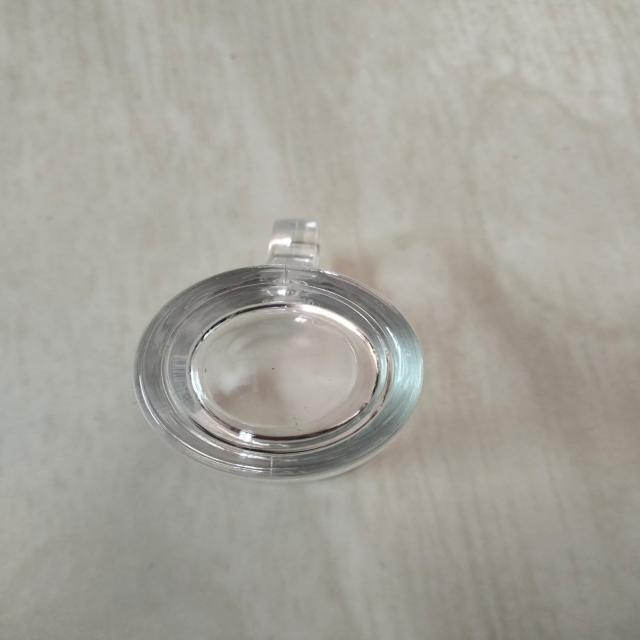glass-VX4N: (132, 215, 426, 490)
